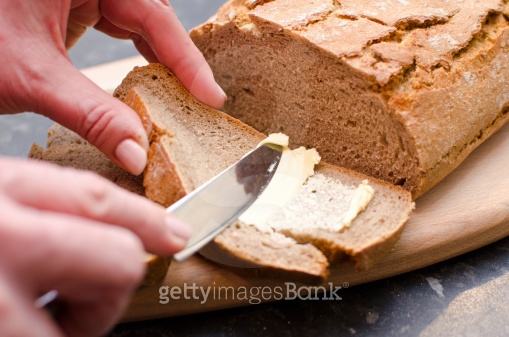slice of bread: (107, 57, 420, 289)
